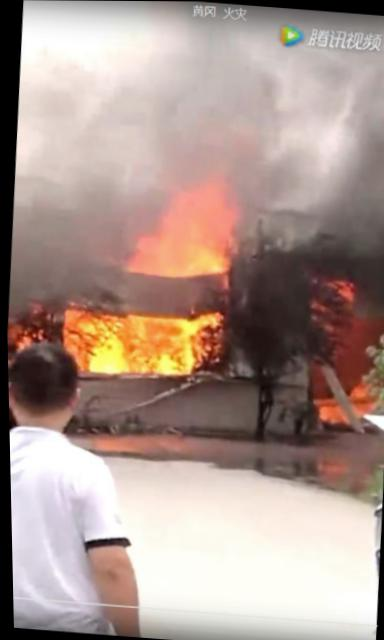fire: (57, 308, 126, 374), (120, 311, 193, 373), (128, 234, 228, 277), (157, 186, 234, 241), (190, 310, 220, 364)
